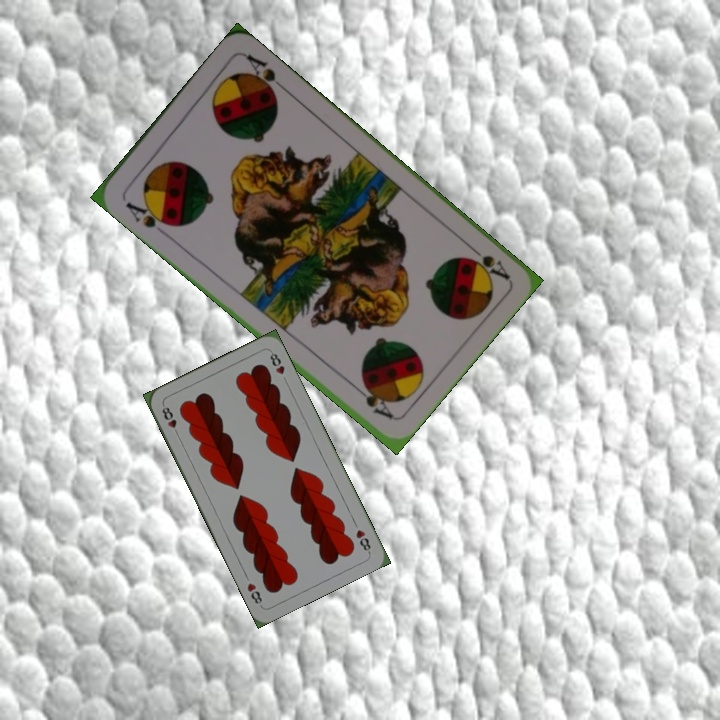H8: (158, 401, 182, 439), (352, 525, 373, 555)
SA: (121, 197, 175, 239), (461, 239, 512, 283)
